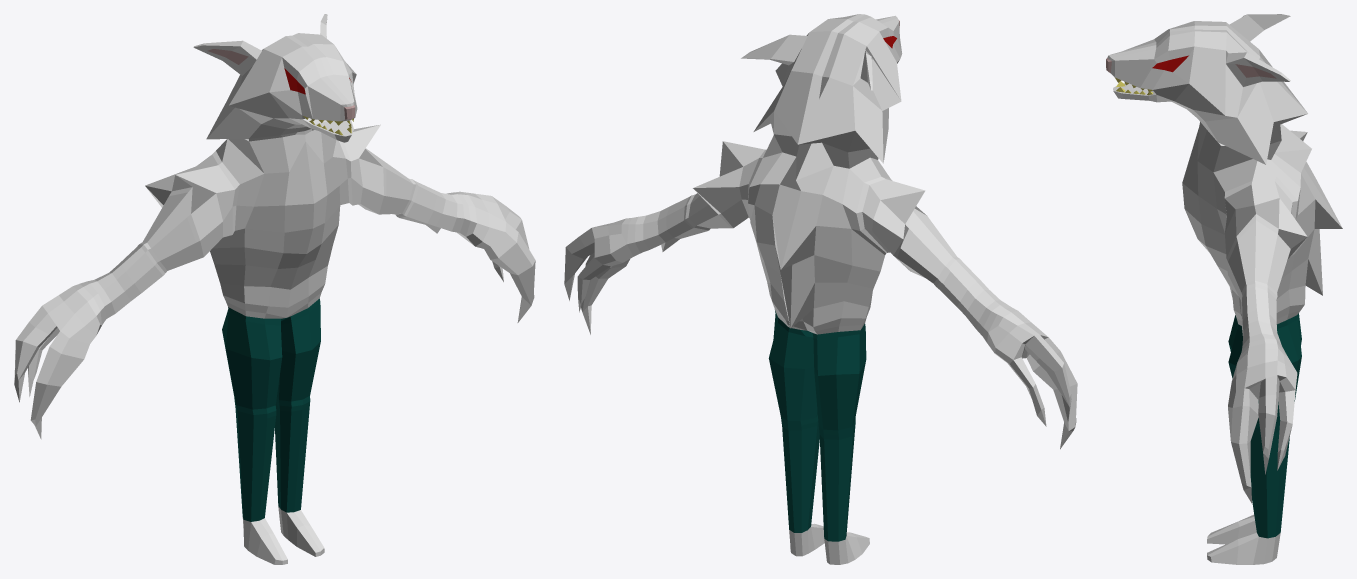
Rendered from Werewolf.fbx.
3 renders of one model, left to right at view 1: azimuth 30°, elevation 25°; view 2: azimuth 150°, elevation 25°; view 3: azimuth 270°, elevation 25°, orthographic. The views are drawn at different scales.
Visible parts, largest first — view 1: Werewolf; view 2: Werewolf; view 3: Werewolf.
Boxes of the visible parts, x1=… form: Werewolf: x1=14, y1=14, x2=535, y2=564; Werewolf: x1=564, y1=14, x2=1077, y2=564; Werewolf: x1=1106, y1=14, x2=1342, y2=564.
Bounding box in the file's own units: 0.8133 × 0.7865 × 0.3236.
